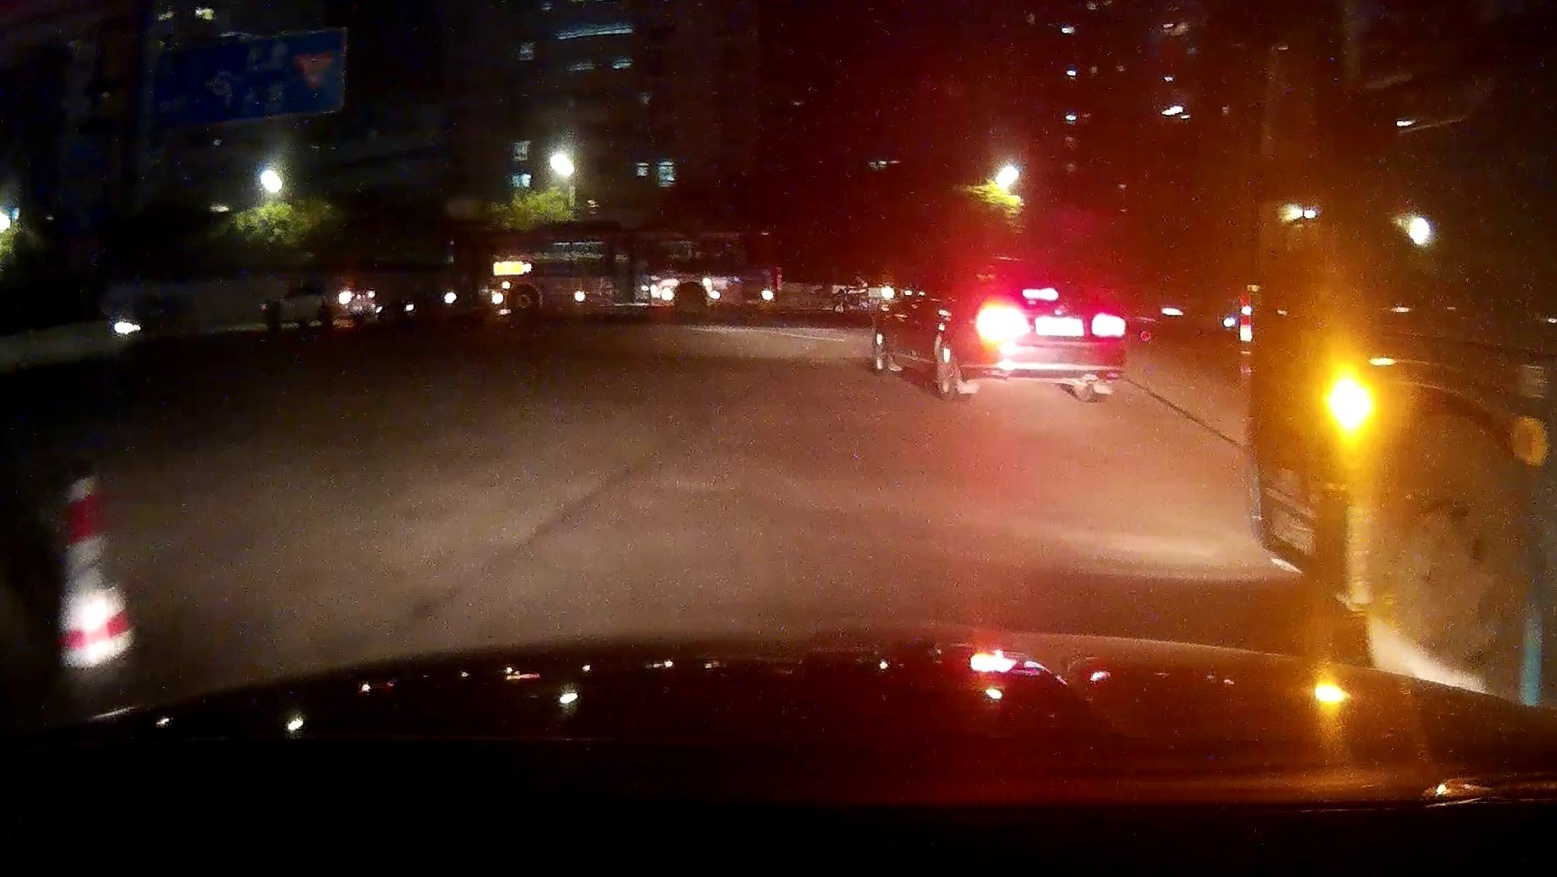L_light: (976, 304, 1030, 338)
R_light: (1091, 314, 1126, 338)
T_light: (1020, 283, 1059, 302)
night-left: (954, 262, 1128, 402)
